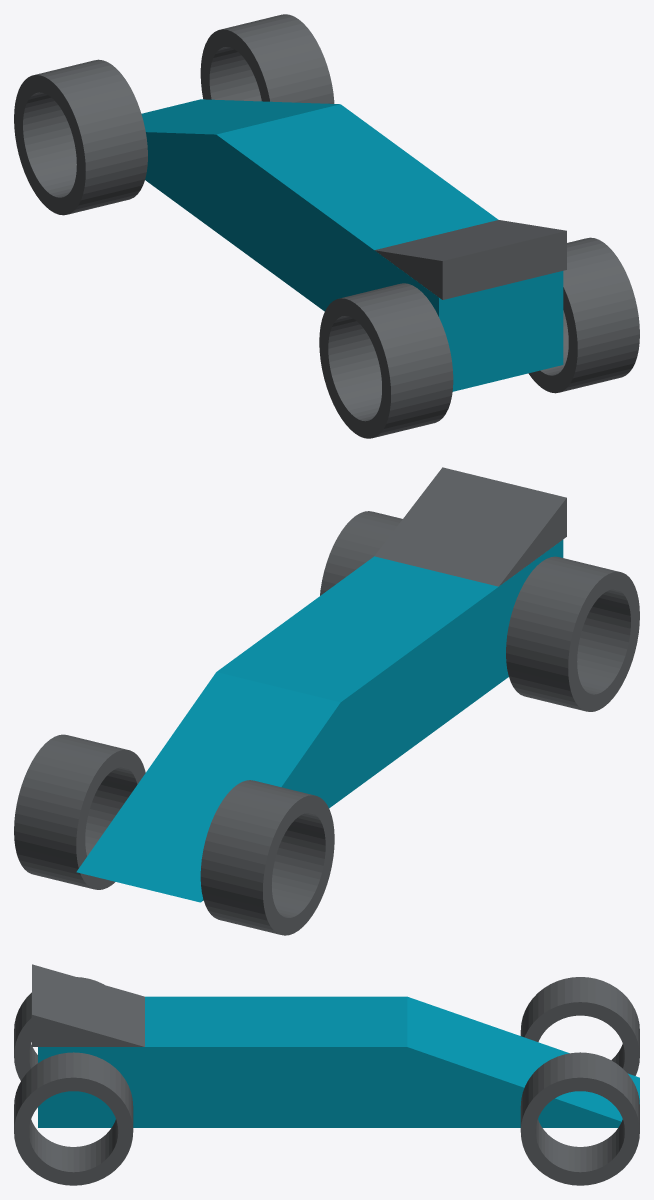
The model's file is blueCar.glb.
3 views of the same model, one above another, from view 1: azimuth 30°, elevation 25°; view 2: azimuth 150°, elevation 25°; view 3: azimuth 270°, elevation 25° (orthographic). The views are drawn at different scales.
Parts seen in each view (by area): view 1: Mesh_Mesh_head_geo.001_lambert2SG.001; view 2: Mesh_Mesh_head_geo.001_lambert2SG.001; view 3: Mesh_Mesh_head_geo.001_lambert2SG.001.
Part boxes in pixels (x1,y1,x2,y2): Mesh_Mesh_head_geo.001_lambert2SG.001: [14, 14, 639, 438]; Mesh_Mesh_head_geo.001_lambert2SG.001: [14, 467, 639, 935]; Mesh_Mesh_head_geo.001_lambert2SG.001: [14, 964, 639, 1185].
Bounding box in the file's own units: 0.04 × 0.027 × 0.105.
